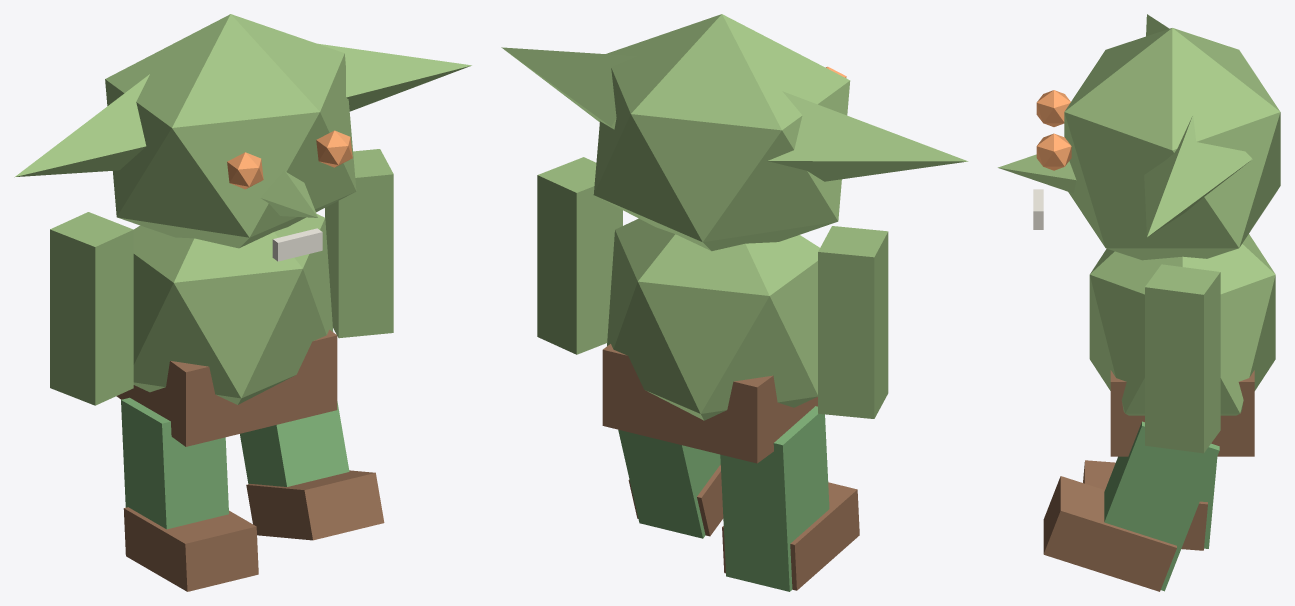
Rendered from npcpose_goblin_walk_02.glb.
3 views of the same model, side by side, from view 1: azimuth 30°, elevation 25°; view 2: azimuth 150°, elevation 25°; view 3: azimuth 270°, elevation 25° (orthographic). The views are drawn at different scales.
Visible parts, largest first — view 1: npcpose; view 2: npcpose; view 3: npcpose.
Part boxes in pixels (<box>): npcpose: <box>14,14,471,591</box>; npcpose: <box>501,14,968,591</box>; npcpose: <box>998,14,1280,591</box>.
Size of the model in its own units: 1.03 by 1.14 by 0.5501.
